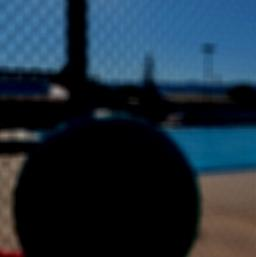algae: (6, 112, 205, 257)
